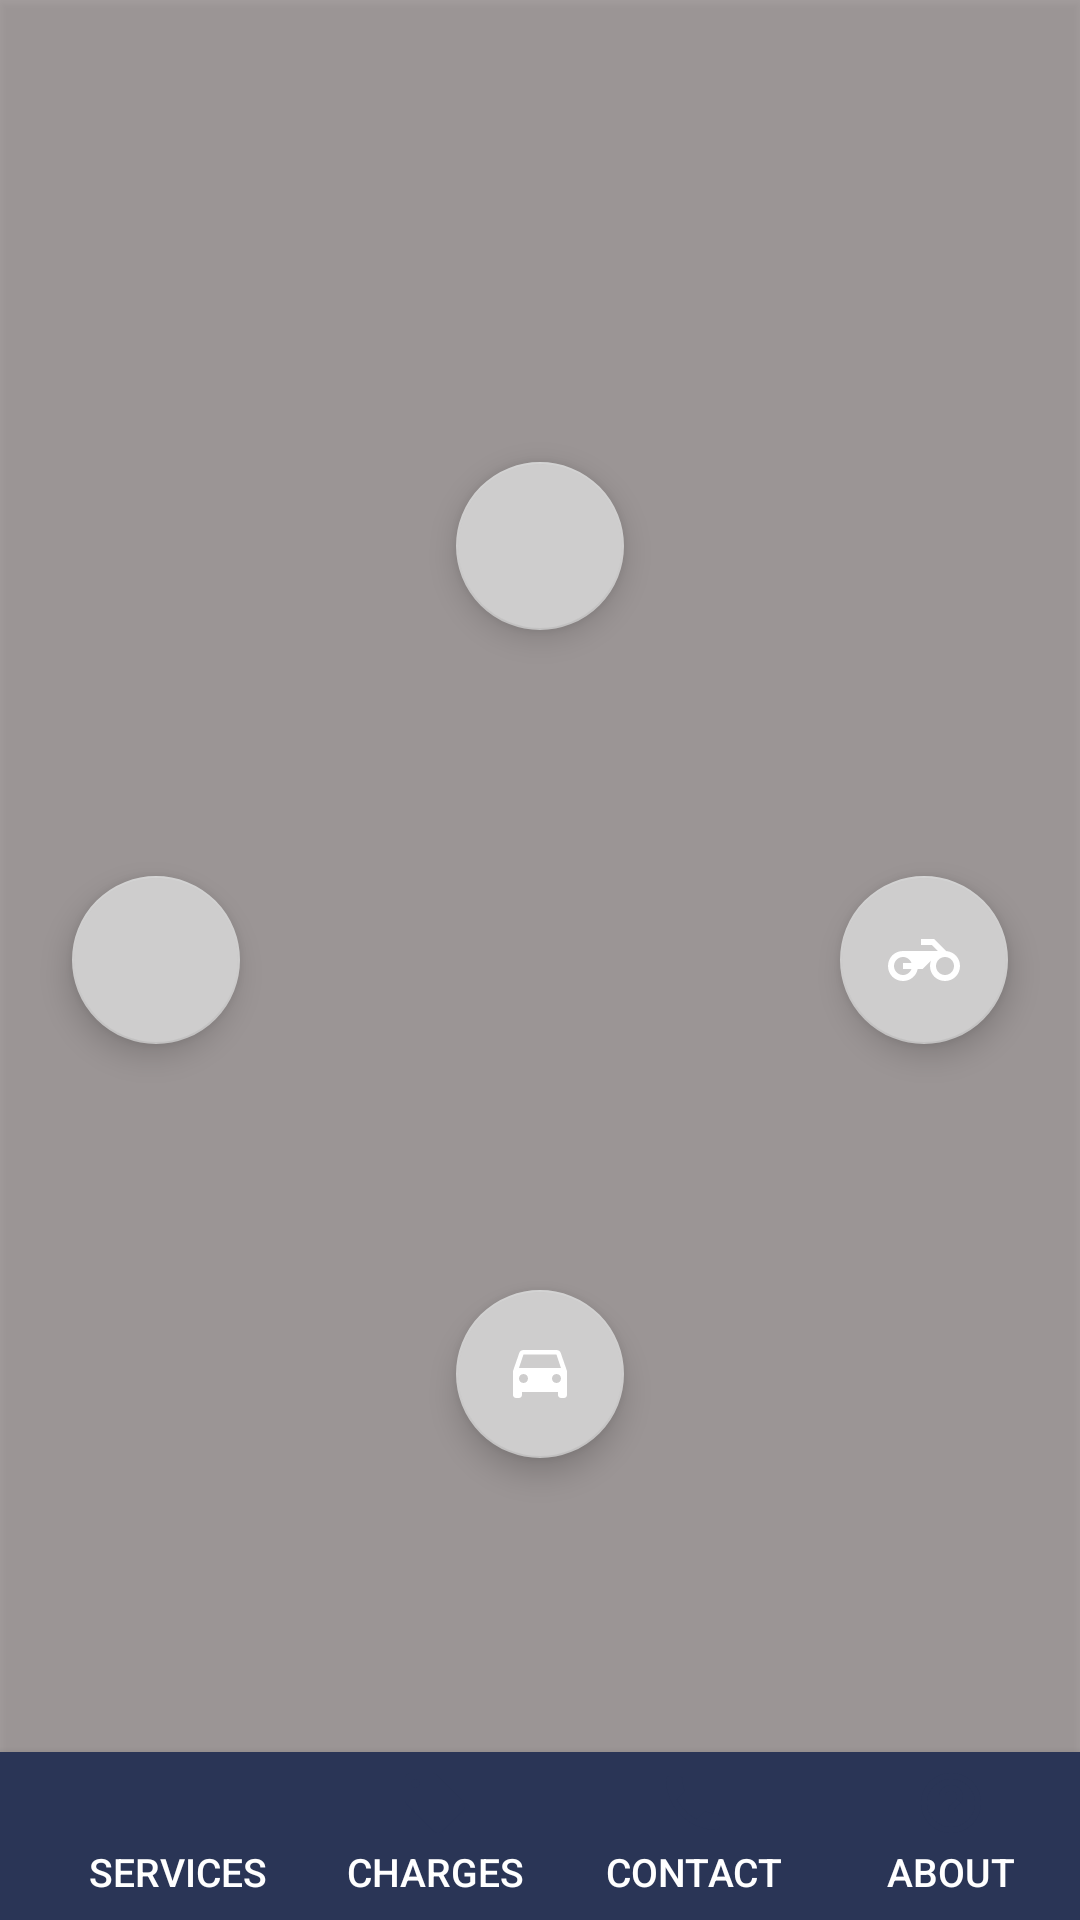

Icon click points for this 1080w x 1920h phone screenshot, format (x,y):
motorcycle: (924,960)
